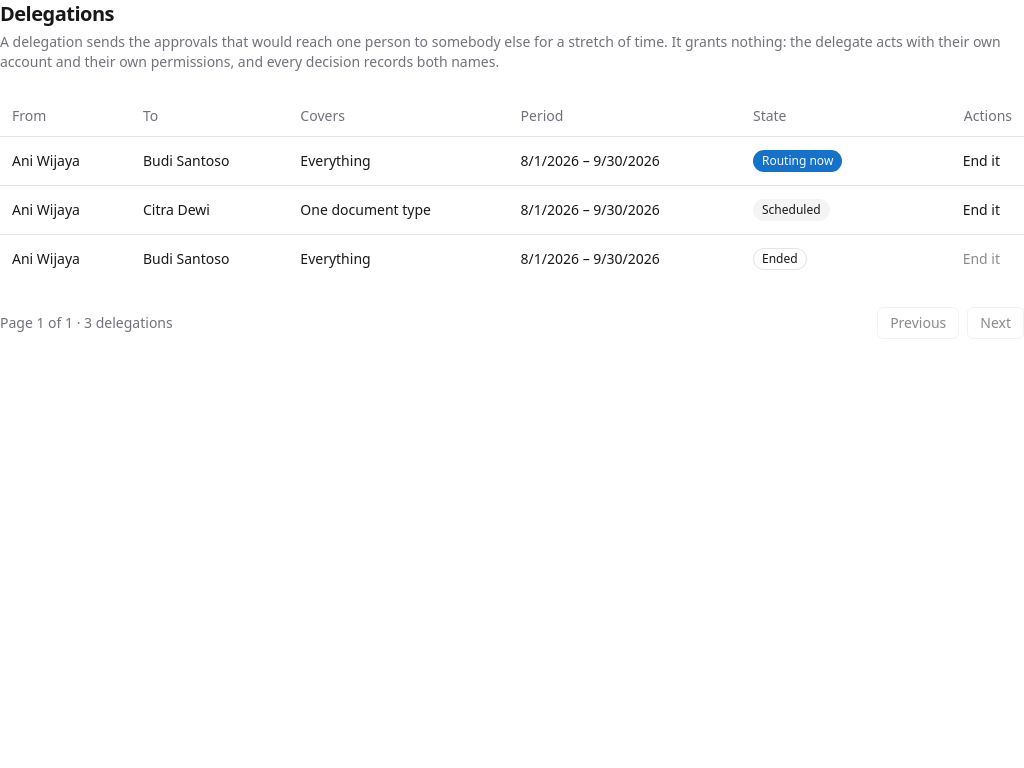
DelegationListPage › says what ending a window does not do before it is confirmed
This screenshot has width=1024, height=768.
Click the button with test id "end-delegation-d-1": click(981, 160) [951,144,1012,176]
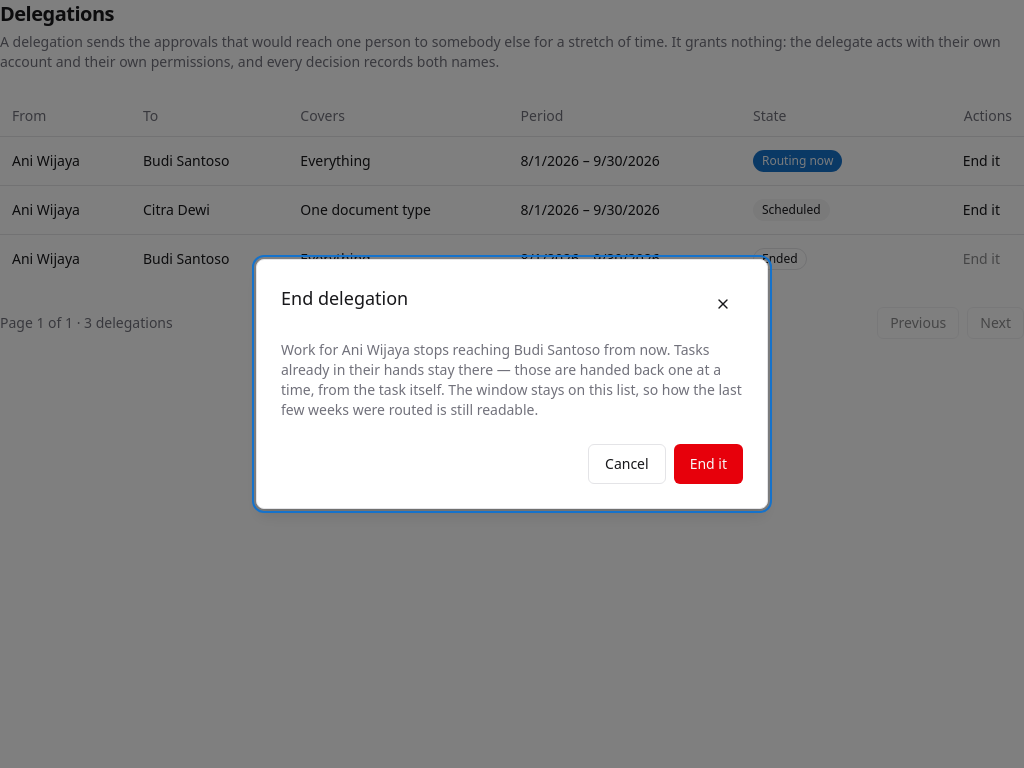
Now the text "stops reaching Budi Santoso from now" is shown, box [281,340,742,419]
Now the text "Tasks already in their hands stay there" is shown, box [281,340,742,419]
